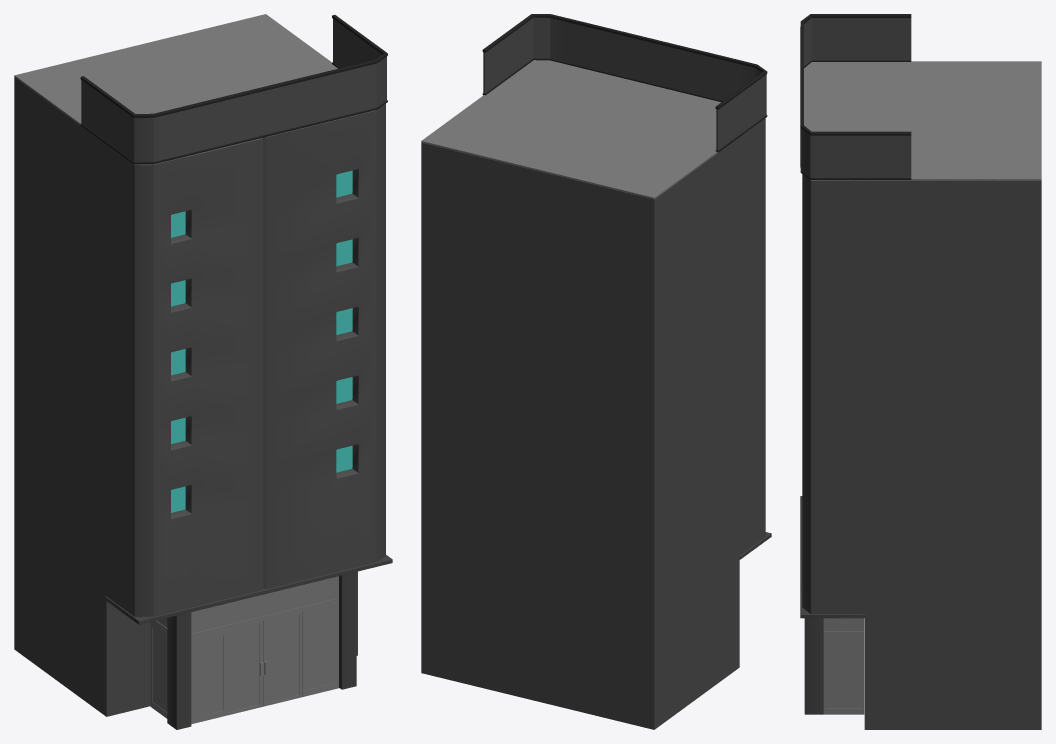
The model's file is SM_building_standard_04.fbx.
The picture shows the model from 3 angles, left to right: view 1: azimuth 30°, elevation 25°; view 2: azimuth 150°, elevation 25°; view 3: azimuth 270°, elevation 25°; orthographic projection. The views are drawn at different scales.
Visible parts, largest first — view 1: Box089; view 2: Box089; view 3: Box089.
Part boxes in pixels (x1,y1,x2,y2): Box089: (14, 14, 392, 729); Box089: (421, 14, 771, 729); Box089: (800, 14, 1041, 729).
Size of the model in its own units: 318 by 743 by 272.
